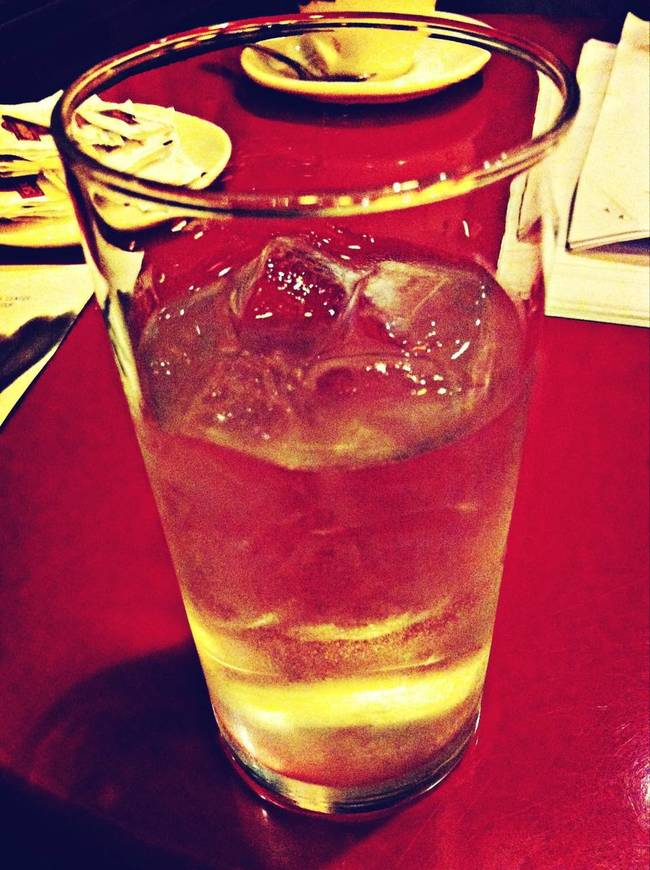glass of water: (129, 154, 508, 785)
